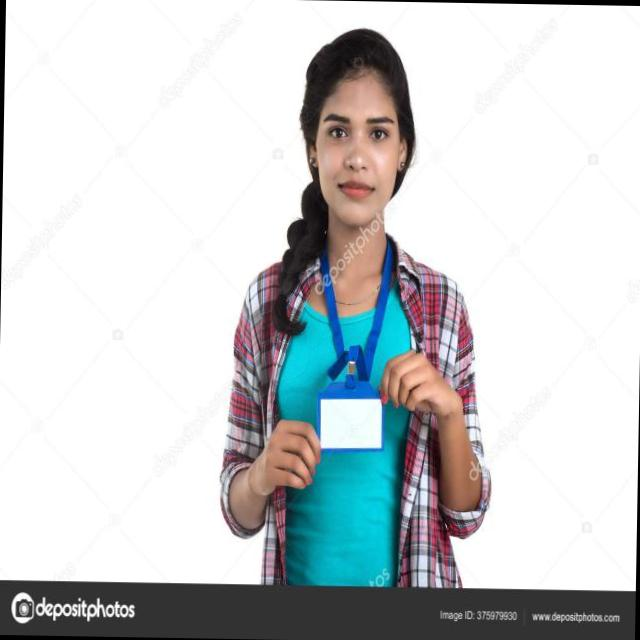id_card: (310, 228, 395, 455)
